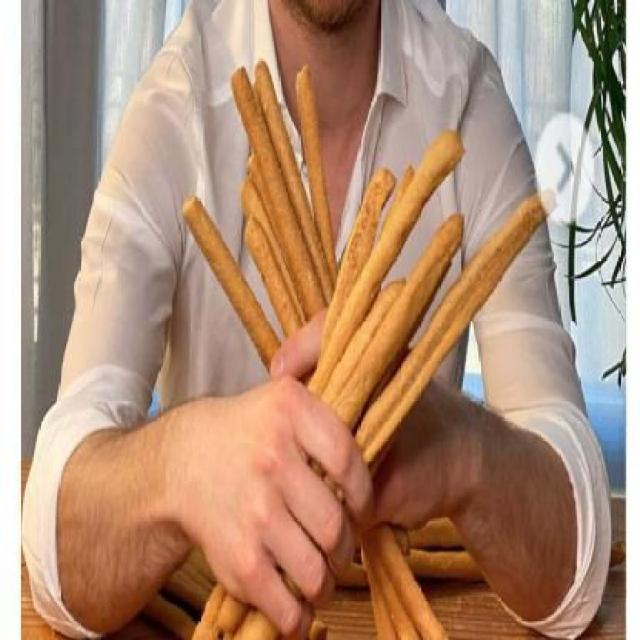Grissini: (196, 70, 516, 639)
